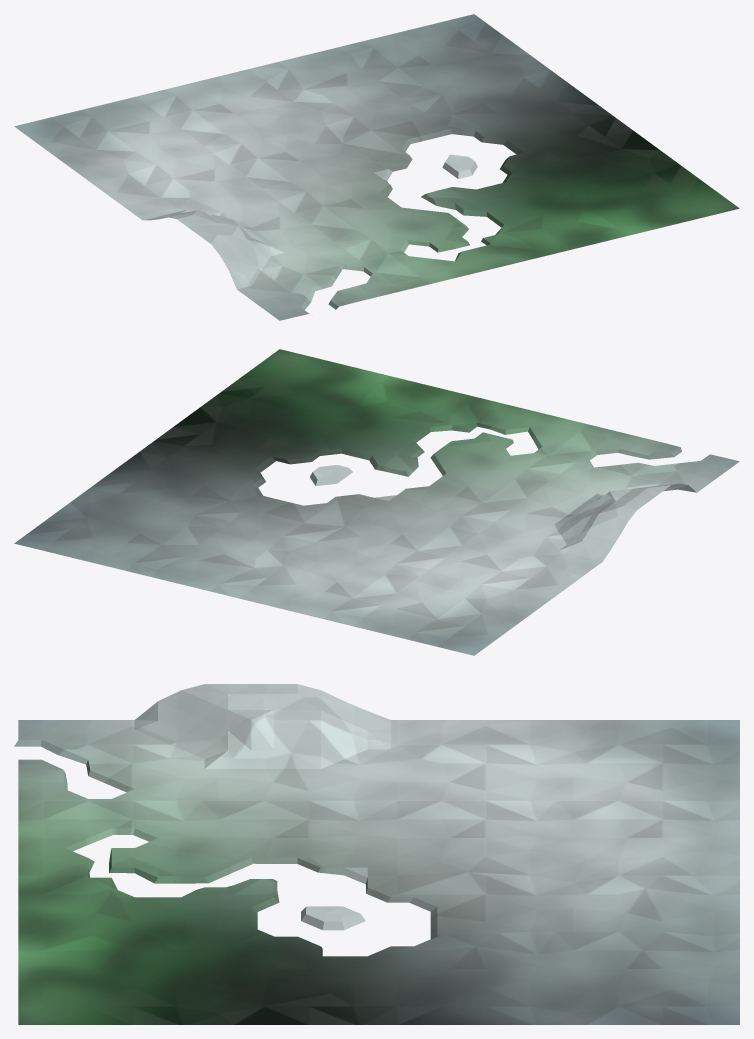
Rendered from ground_1.fbx.
The picture shows the model from 3 angles, top to bottom: view 1: azimuth 30°, elevation 25°; view 2: azimuth 150°, elevation 25°; view 3: azimuth 270°, elevation 25°; orthographic projection. The views are drawn at different scales.
Parts seen in each view (by area): view 1: ground.000; view 2: ground.000; view 3: ground.000.
Boxes of the visible parts, x1=… form: ground.000: x1=14, y1=14, x2=739, y2=320; ground.000: x1=14, y1=349, x2=739, y2=655; ground.000: x1=14, y1=684, x2=739, y2=1024.
Size of the model in its own units: 6098 by 379 by 6136.
